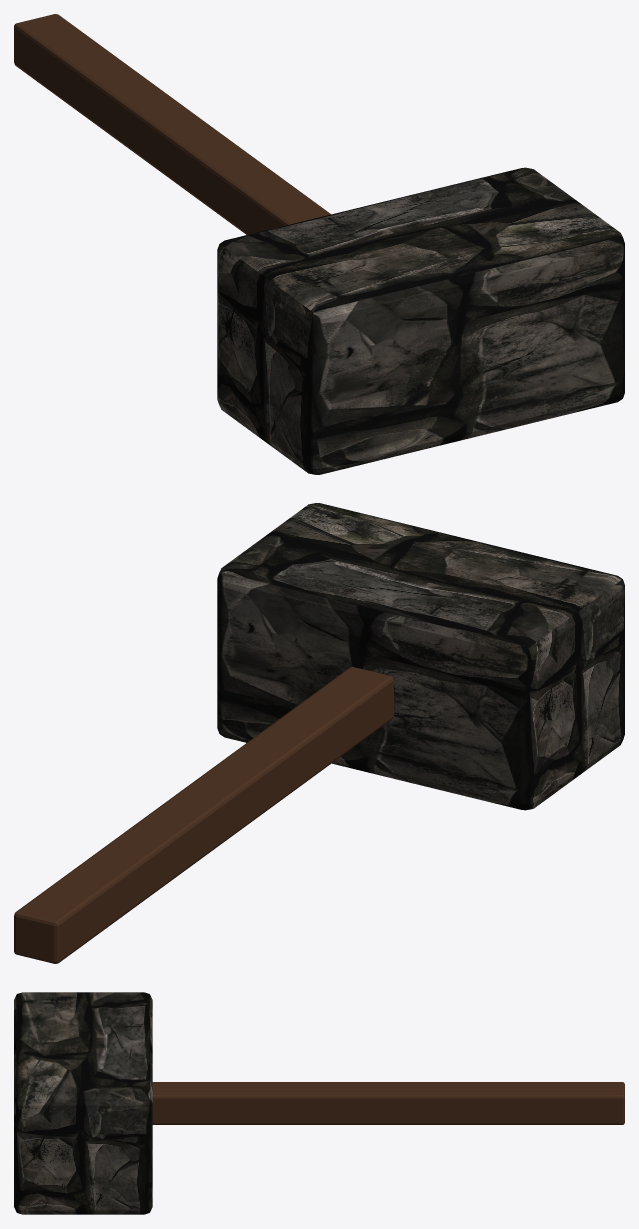
The model's file is colossus_maul_LOD2.glb.
The picture shows the model from 3 angles, top to bottom: view 1: azimuth 30°, elevation 25°; view 2: azimuth 150°, elevation 25°; view 3: azimuth 270°, elevation 25°; orthographic projection. The views are drawn at different scales.
Parts seen in each view (by area): view 1: LOD2_Head, LOD2_Haft; view 2: LOD2_Head, LOD2_Haft; view 3: LOD2_Head, LOD2_Haft.
Part boxes in pixels (<box>): LOD2_Head: <box>217,167,624,474</box>; LOD2_Haft: <box>14,14,330,234</box>; LOD2_Head: <box>217,503,624,810</box>; LOD2_Haft: <box>14,667,393,963</box>; LOD2_Head: <box>14,992,152,1214</box>; LOD2_Haft: <box>152,1082,624,1124</box>.
Bounding box in the file's own units: 0.78 × 0.4 × 1.85.
2 materials, 1 textured.
